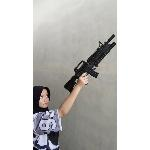Senapan: (61, 32, 117, 96)
